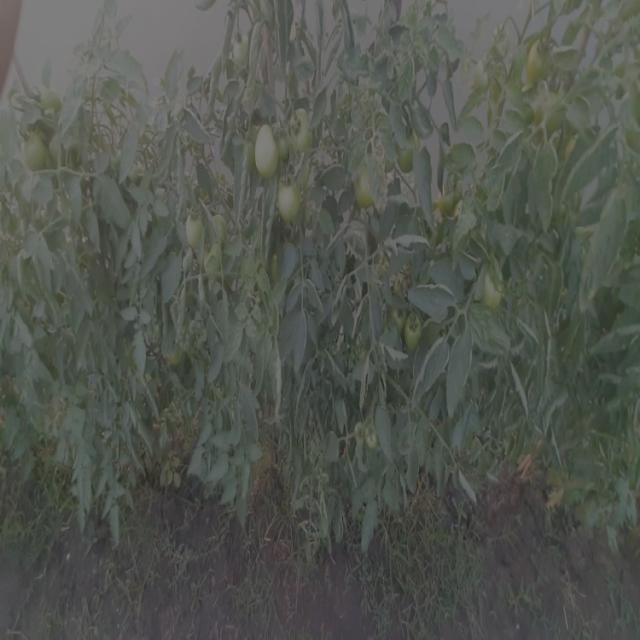tomato: (351, 161, 388, 216), (518, 34, 556, 87), (247, 125, 283, 178), (282, 106, 315, 149), (478, 262, 508, 308), (18, 126, 47, 172), (182, 208, 211, 254), (393, 132, 421, 177), (435, 182, 463, 219), (278, 179, 302, 222), (216, 213, 241, 253), (359, 416, 382, 458), (52, 129, 75, 167), (407, 314, 425, 354), (386, 300, 409, 328)
